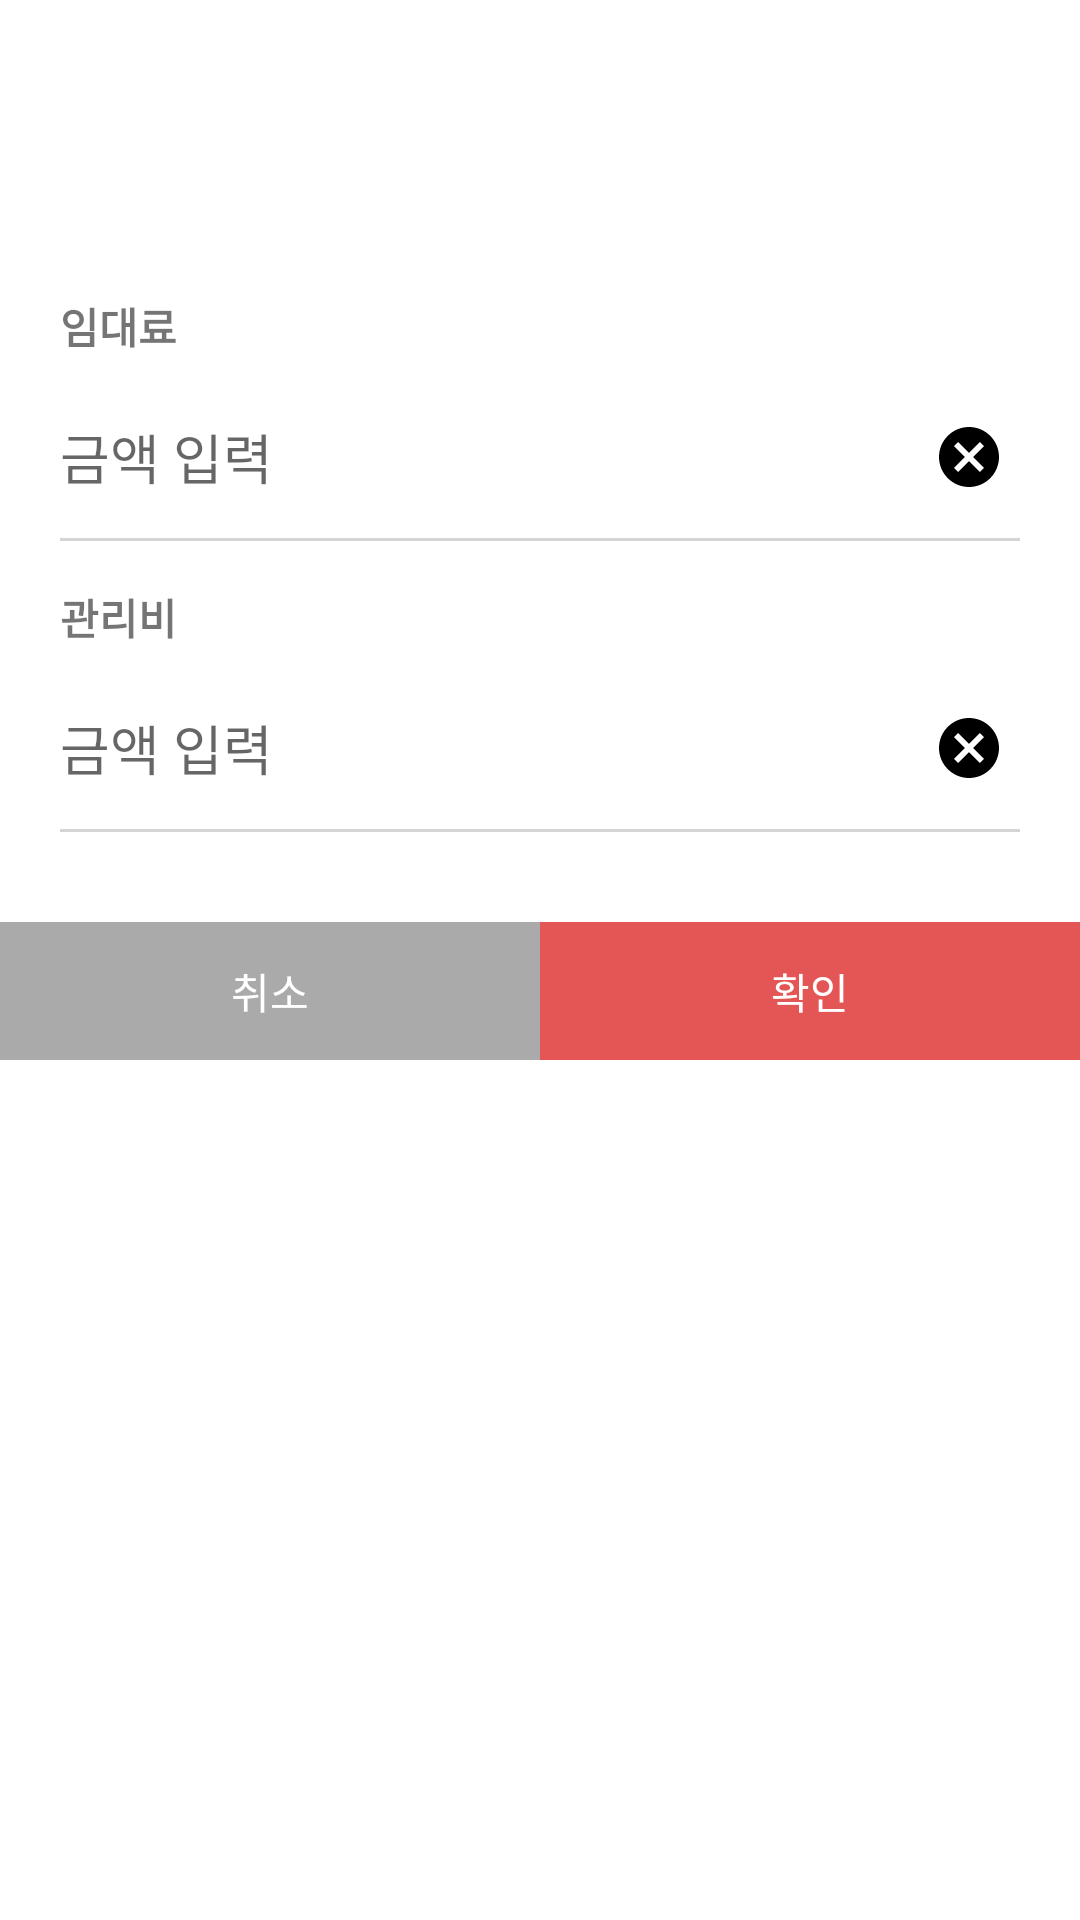

Icons on this 1080×1920 Android screen, each with the point to tap as (x,y):
clear: (969,457), (969,748)
